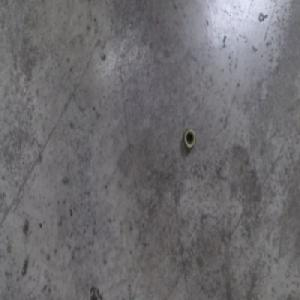Nut: (183, 127, 196, 151)
